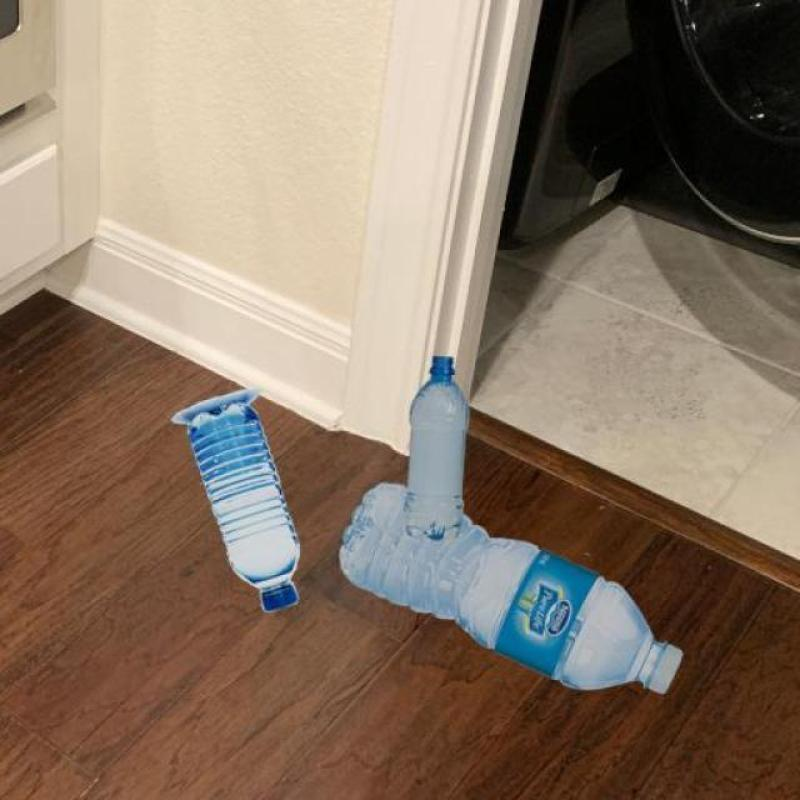botella: (336, 479, 686, 695), (185, 400, 303, 614), (410, 356, 468, 539)
